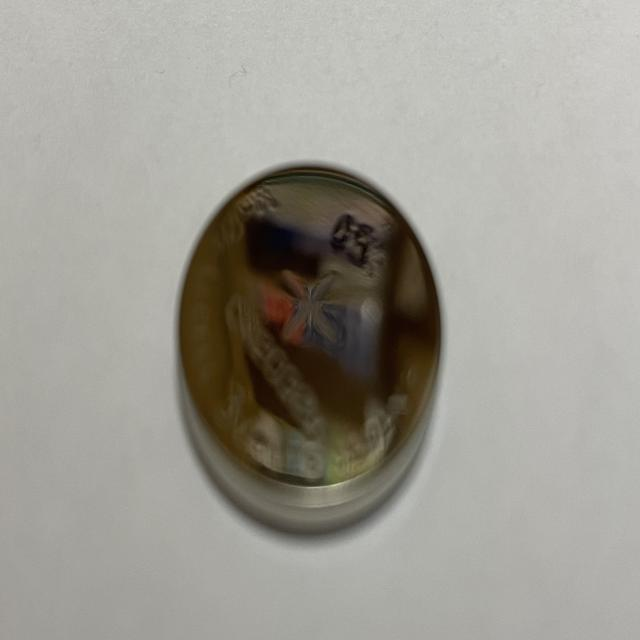COIN: (175, 162, 444, 537)
